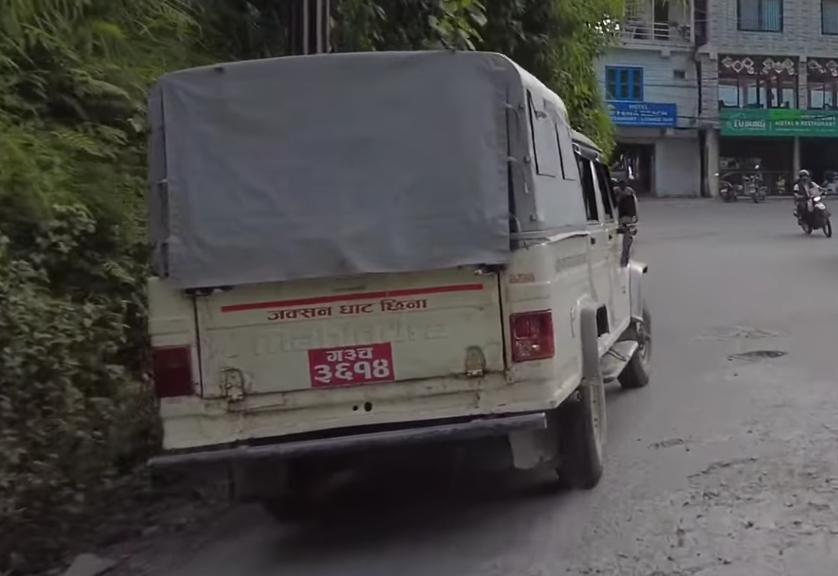bike: (783, 164, 838, 242)
transport_vehicle: (133, 43, 647, 513)
